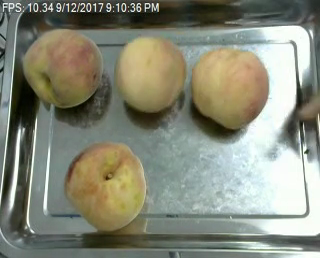Peach: (64, 141, 147, 232), (22, 28, 104, 108), (191, 46, 269, 129), (114, 34, 186, 113)
